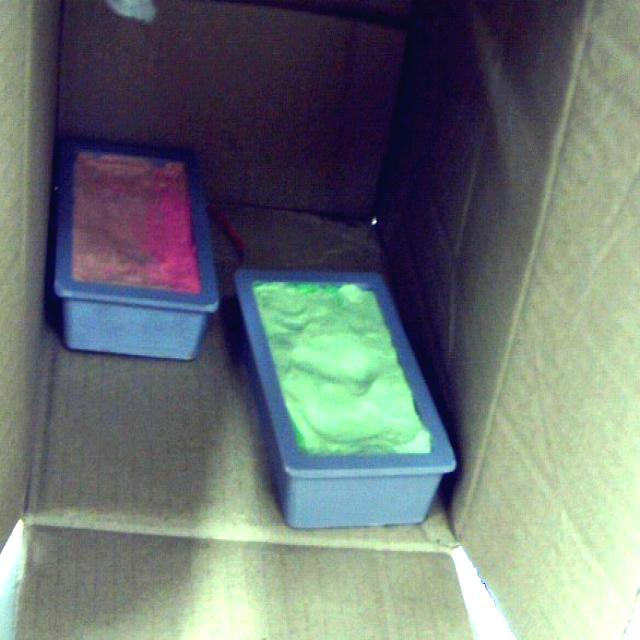block: (228, 264, 460, 530), (50, 139, 225, 360)
